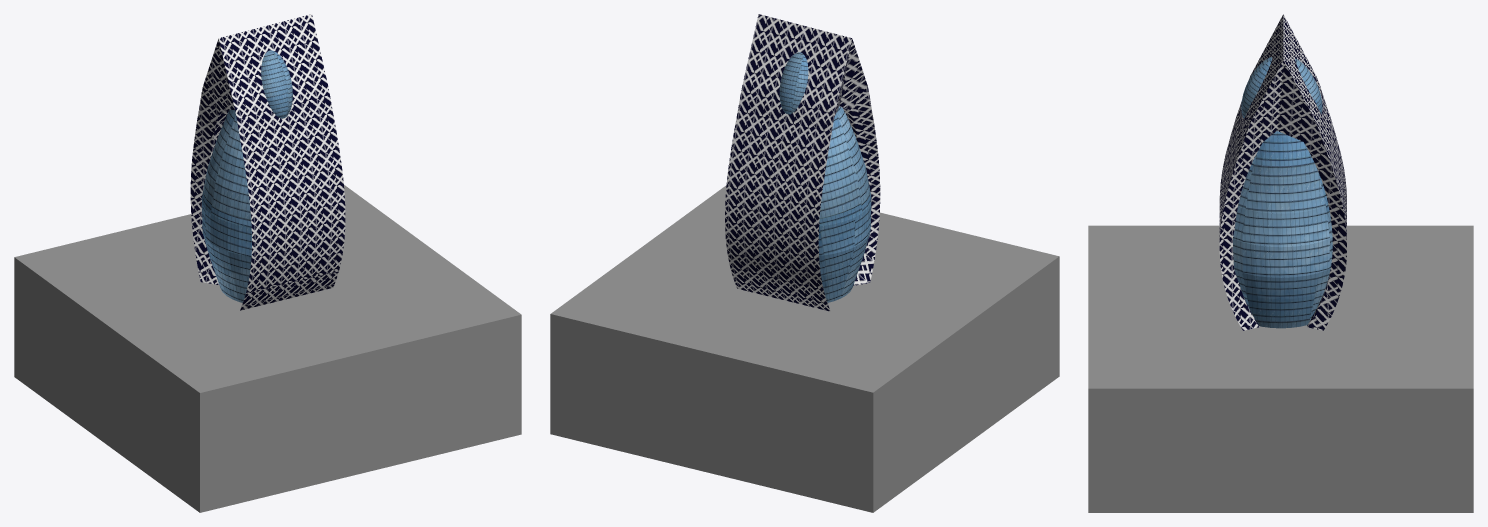
File: CocconTower.fbx
The picture shows the model from 3 angles, left to right: view 1: azimuth 30°, elevation 25°; view 2: azimuth 150°, elevation 25°; view 3: azimuth 270°, elevation 25°; orthographic projection. The views are drawn at different scales.
Parts seen in each view (by area): view 1: Cube, Cube.001, Sphere, Sphere.002; view 2: Cube, Cube.001, Sphere, Sphere.001; view 3: Cube, Sphere, Cube.001, Sphere.002, Sphere.001.
Boxes of the visible parts, left/top/right/bottom form: Cube: left=14, top=185, right=521, bottom=512; Cube.001: left=190, top=14, right=345, bottom=310; Sphere: left=201, top=109, right=251, bottom=302; Sphere.002: left=261, top=50, right=292, bottom=118; Cube: left=550, top=185, right=1059, bottom=512; Cube.001: left=725, top=14, right=880, bottom=311; Sphere: left=818, top=106, right=871, bottom=302; Sphere.001: left=779, top=52, right=808, bottom=114; Cube: left=1088, top=225, right=1473, bottom=512; Sphere: left=1232, top=131, right=1332, bottom=328; Cube.001: left=1219, top=14, right=1346, bottom=330; Sphere.002: left=1241, top=57, right=1272, bottom=117; Sphere.001: left=1295, top=58, right=1322, bottom=113.
Size of the model in its own units: 2436 by 2750 by 2436.
5 materials, 4 textured.
